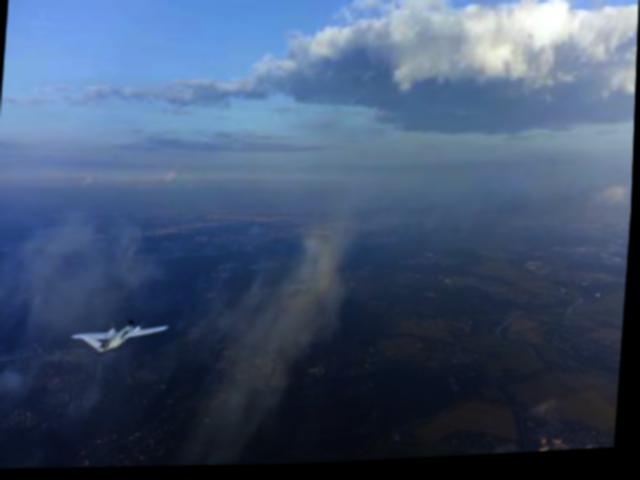uav: (69, 312, 178, 360)
